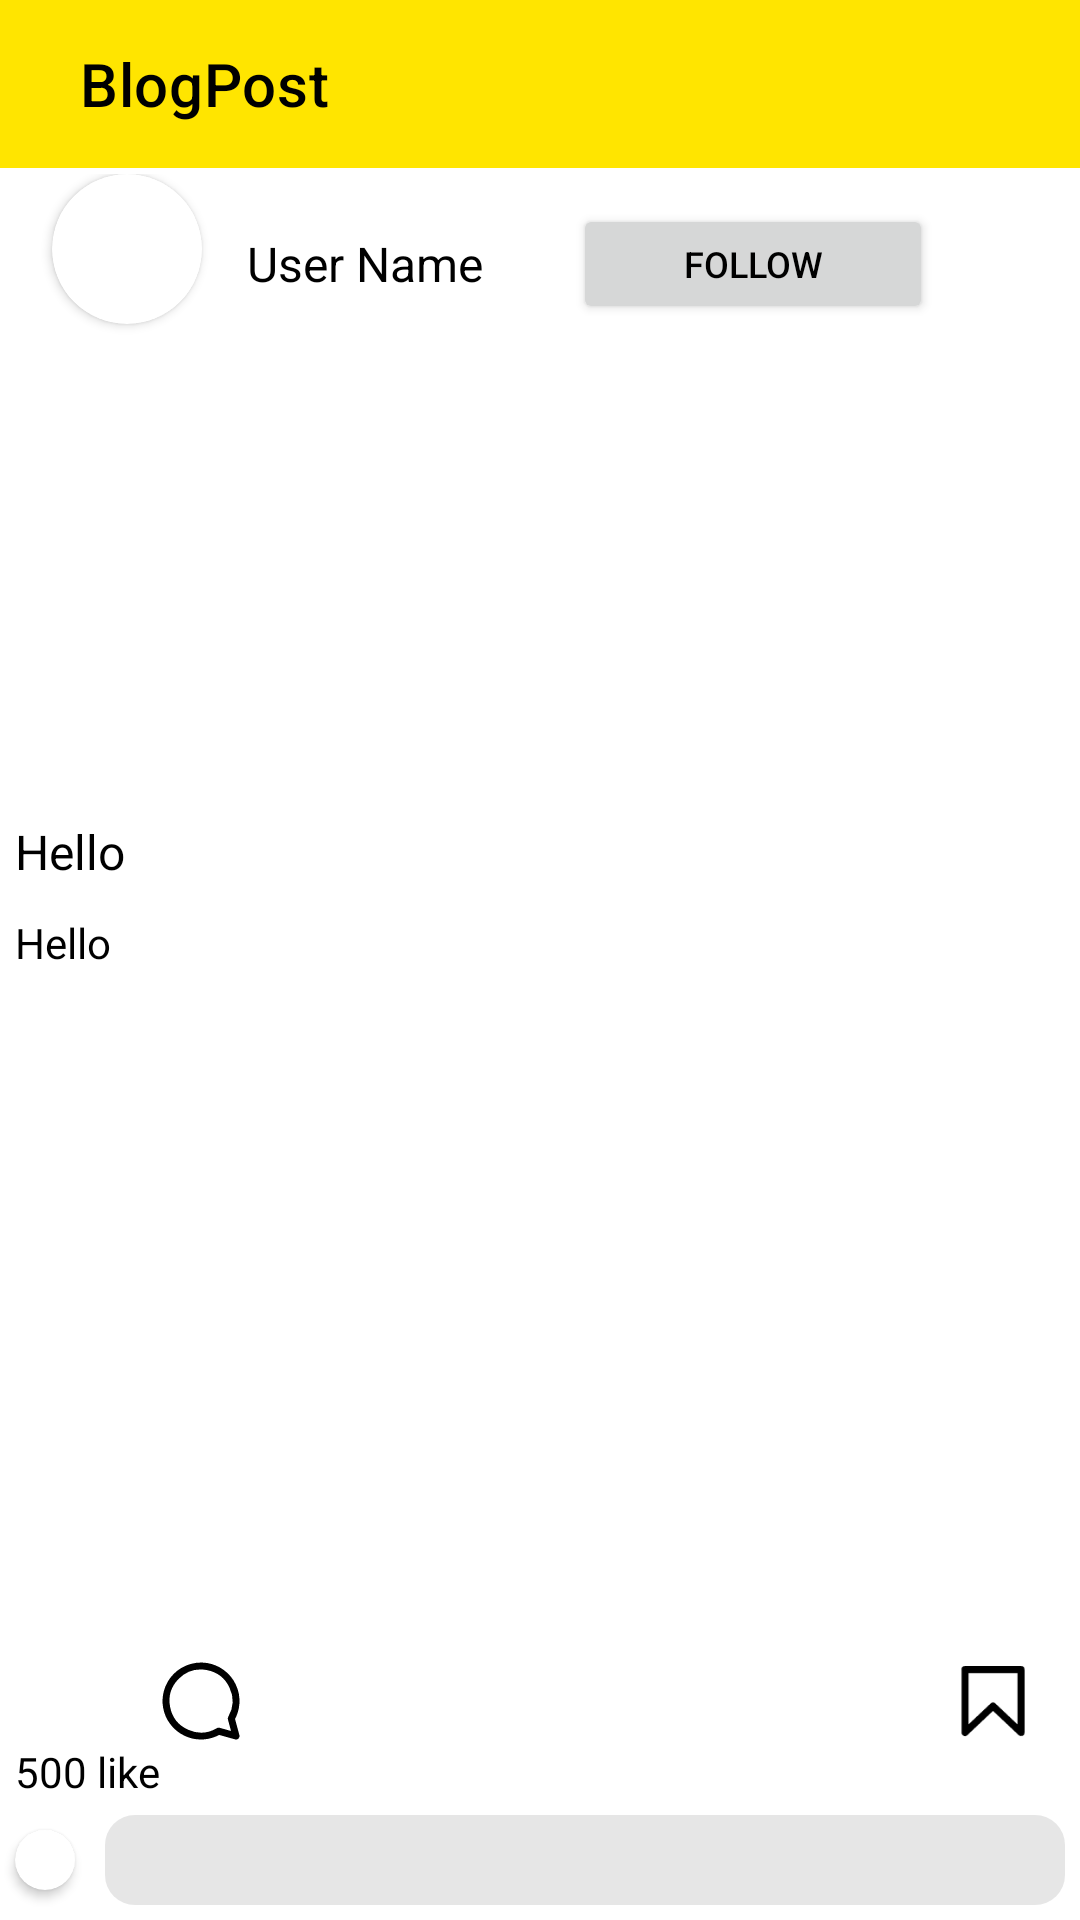

Screen size 1080px x 1920px. Icon name, then its center in pixels as point (x, y):
comment: point (201, 1701)
save: point (993, 1701)
